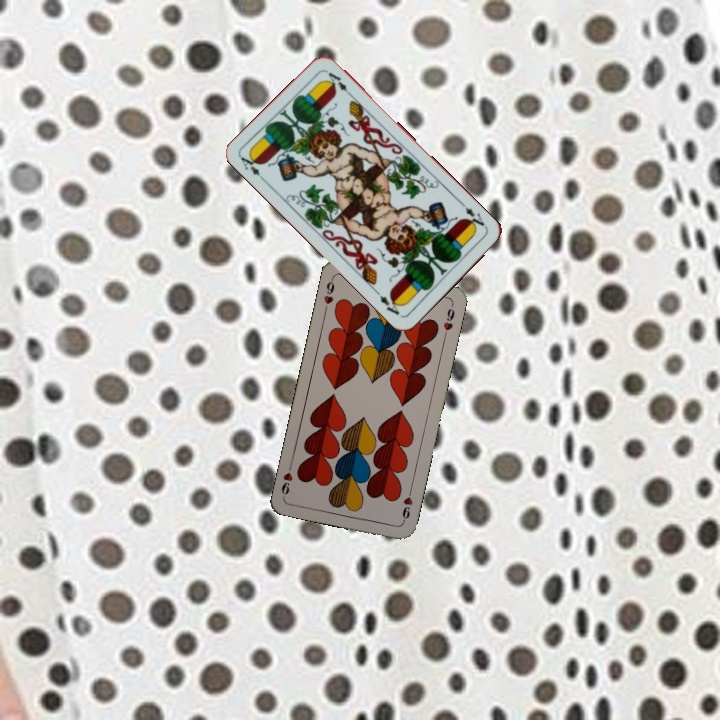EA: (236, 149, 269, 185), (457, 199, 487, 232)
H9: (320, 274, 337, 315), (398, 485, 415, 525)
